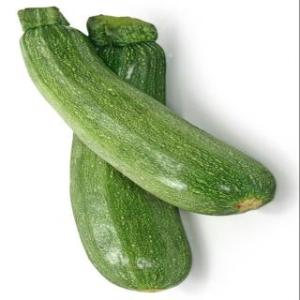zucchini: (19, 23, 252, 178)
